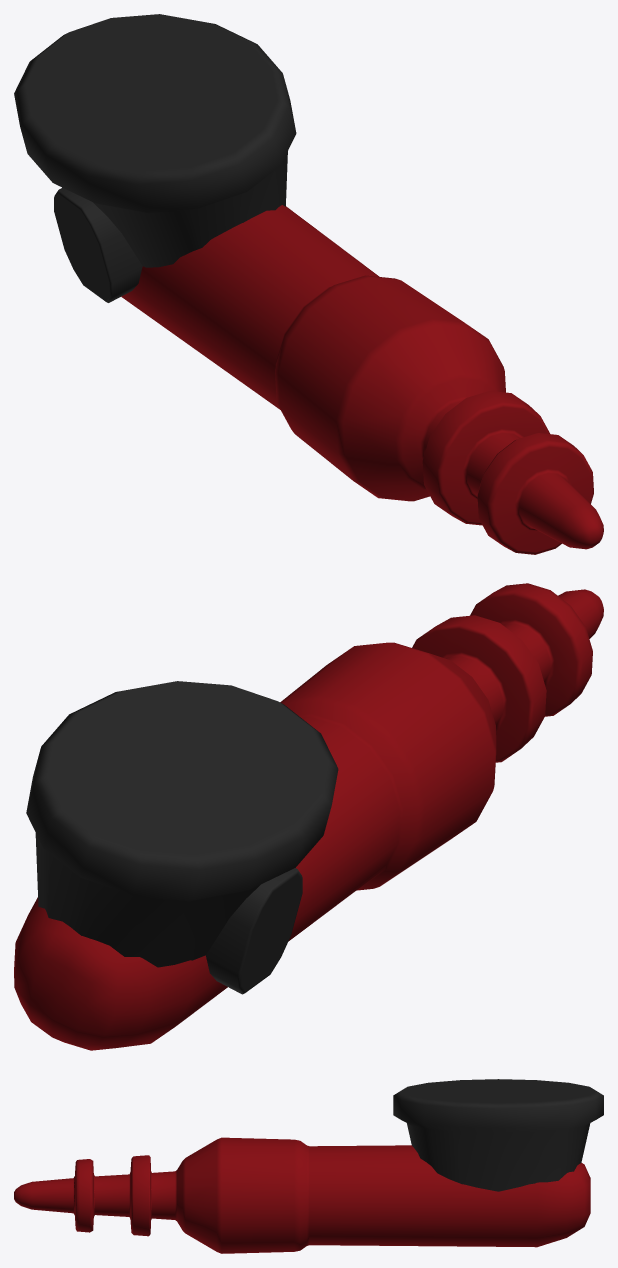
File: Ship_Boss_02_Weapon_R_02.fbx
3 views of the same model, one above another, from view 1: azimuth 30°, elevation 25°; view 2: azimuth 150°, elevation 25°; view 3: azimuth 270°, elevation 25° (orthographic). The views are drawn at different scales.
Parts seen in each view (by area): view 1: Ship_Boss_02_Weapon_R_02; view 2: Ship_Boss_02_Weapon_R_02; view 3: Ship_Boss_02_Weapon_R_02.
Part boxes in pixels (box(x1,y1,x2,y2)): Ship_Boss_02_Weapon_R_02: box(14, 14, 603, 554); Ship_Boss_02_Weapon_R_02: box(14, 583, 603, 1050); Ship_Boss_02_Weapon_R_02: box(14, 1079, 603, 1253).
Bounding box in the file's own units: 168 × 192 × 631.
